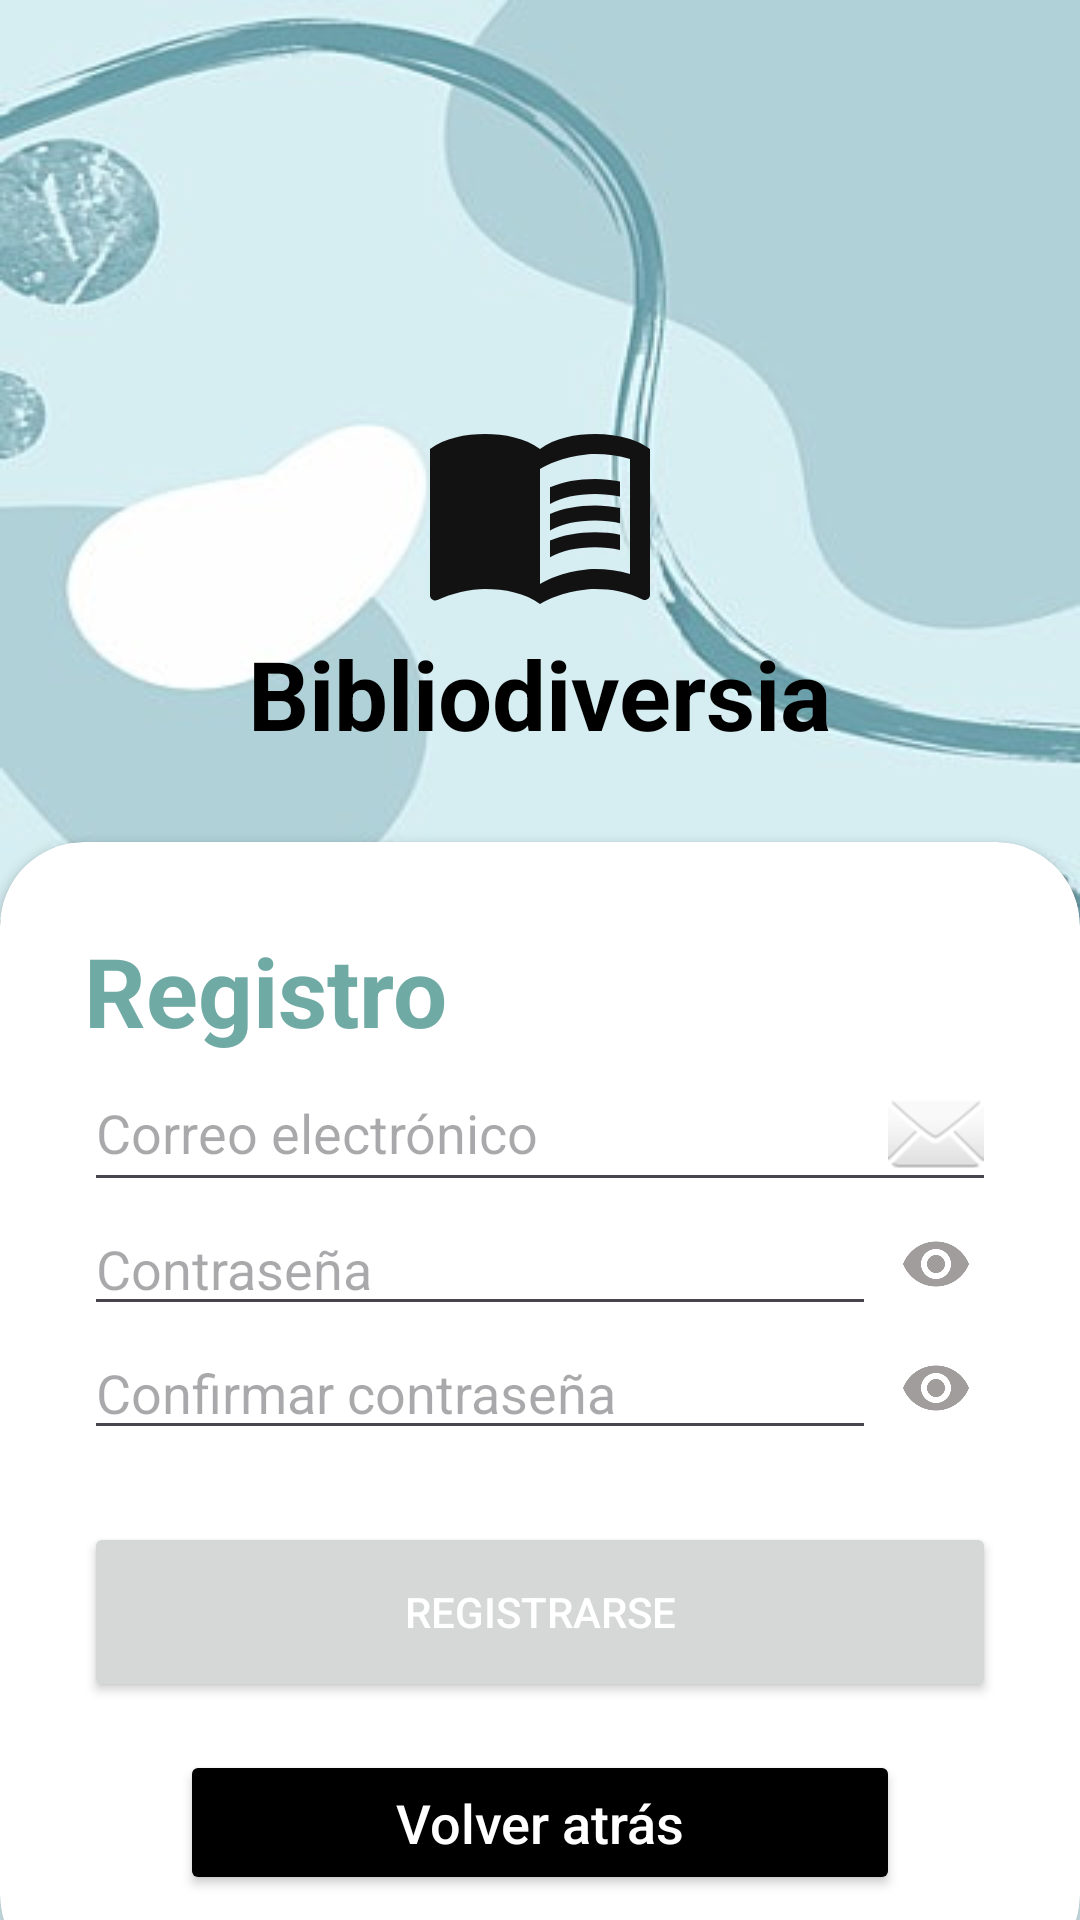

Point at icon controls on the screen. Image size 1080×1920, points as point (x, y).
libro: point (540, 509)
Toggle password visibility: point (936, 1264), point (936, 1388)
